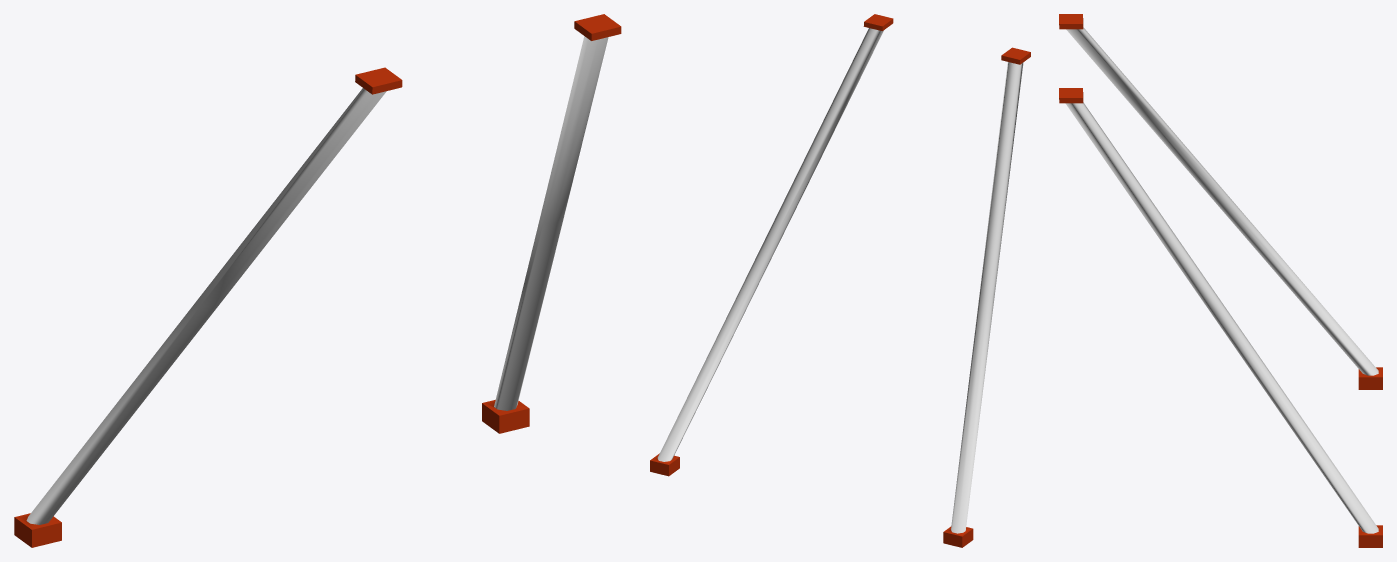
File: Net_LP.fbx
The picture shows the model from 3 angles, left to right: view 1: azimuth 30°, elevation 25°; view 2: azimuth 150°, elevation 25°; view 3: azimuth 270°, elevation 25°; orthographic projection. The views are drawn at different scales.
Visible parts, largest first — view 1: Net; view 2: Net; view 3: Net.
Part boxes in pixels (x1,y1,x2,y2): Net: [14, 14, 621, 547]; Net: [650, 14, 1030, 547]; Net: [1059, 14, 1382, 547].
Bounding box in the file's own units: 299 × 338 × 243.
